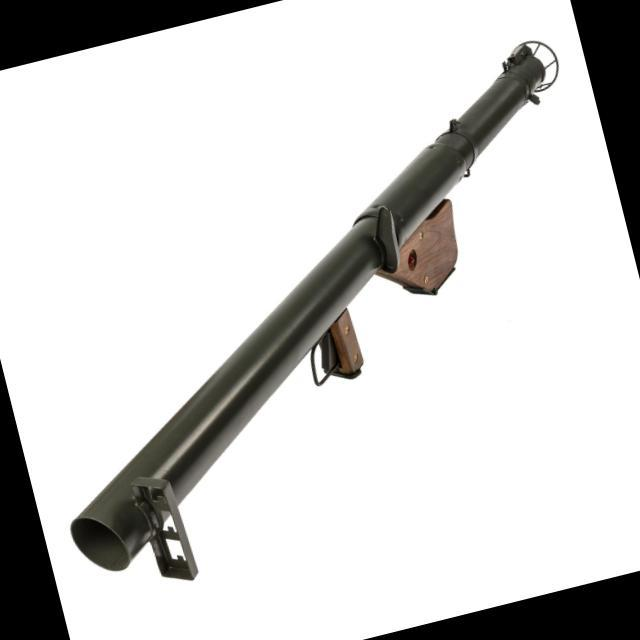rocket: (0, 24, 640, 587)
